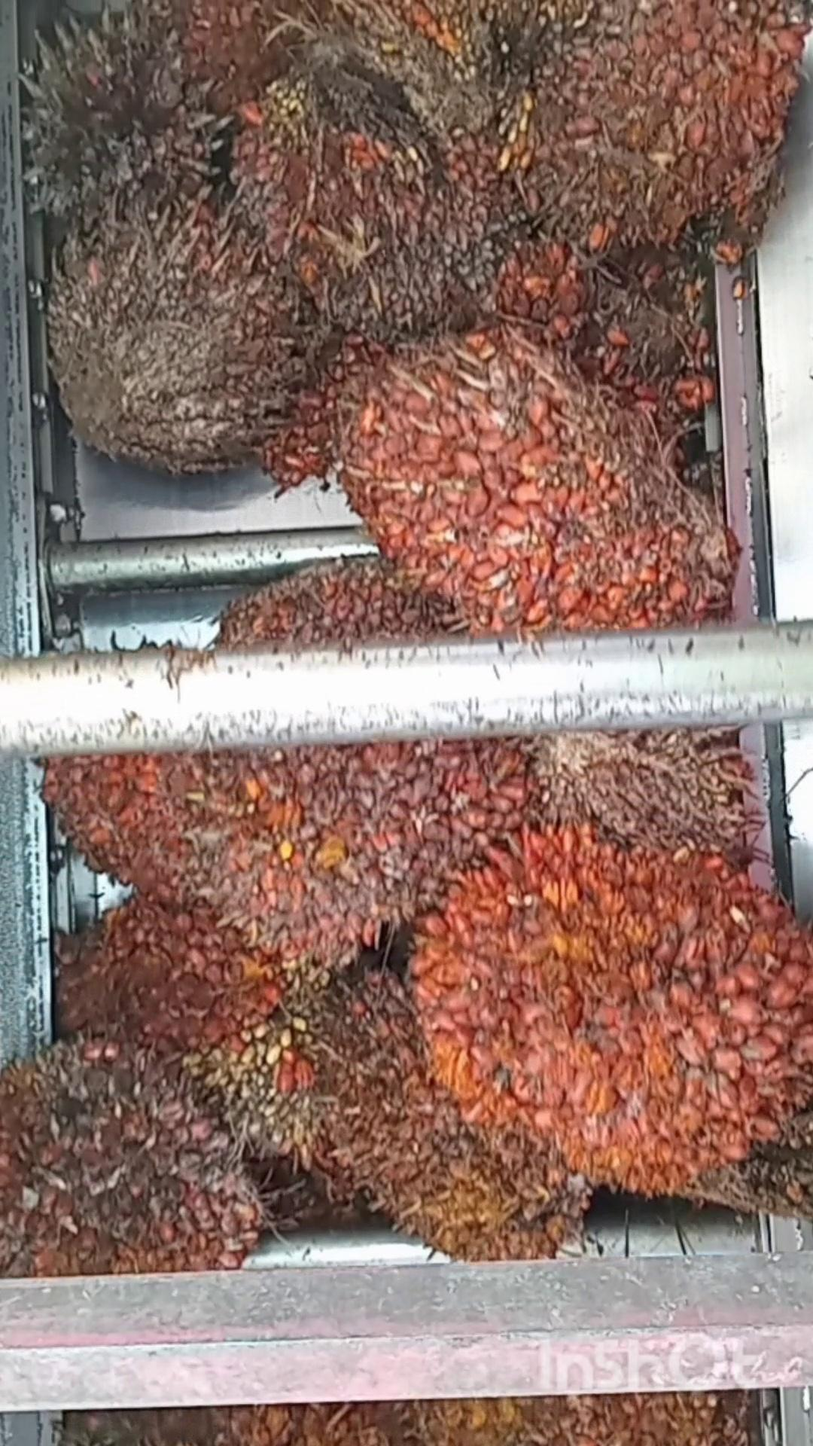Madurado: (201, 554, 534, 977), (425, 840, 813, 1190), (335, 320, 738, 621), (519, 0, 813, 256), (0, 1028, 271, 1280)
Verde: (49, 207, 339, 486)
